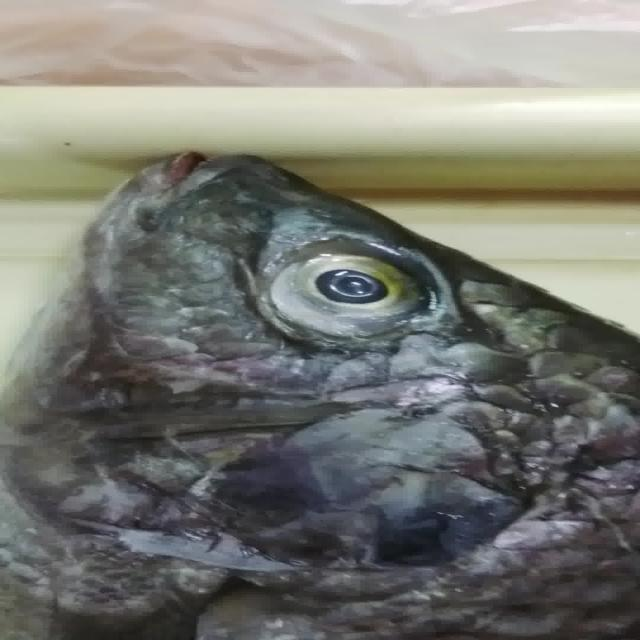Non-Fresh: (243, 222, 450, 354)
